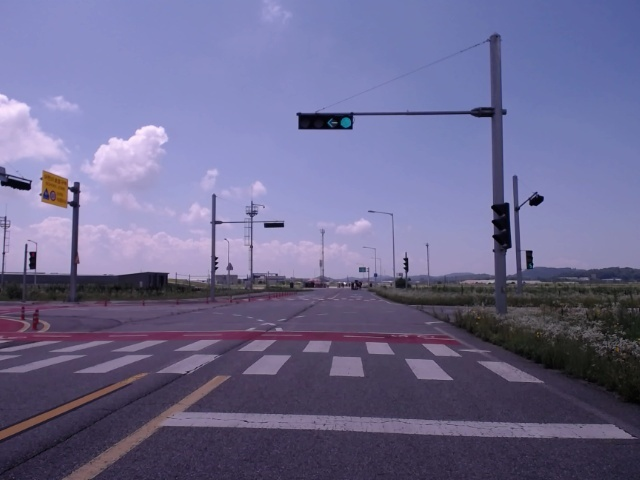all_green_4: (300, 114, 355, 129)
